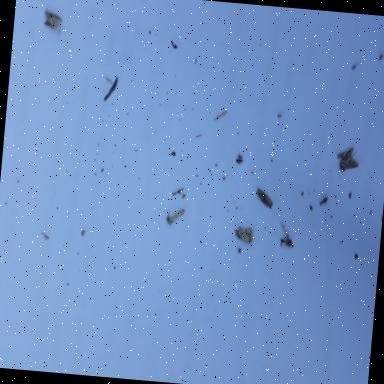pbw: (337, 146, 360, 178), (254, 188, 276, 212)
